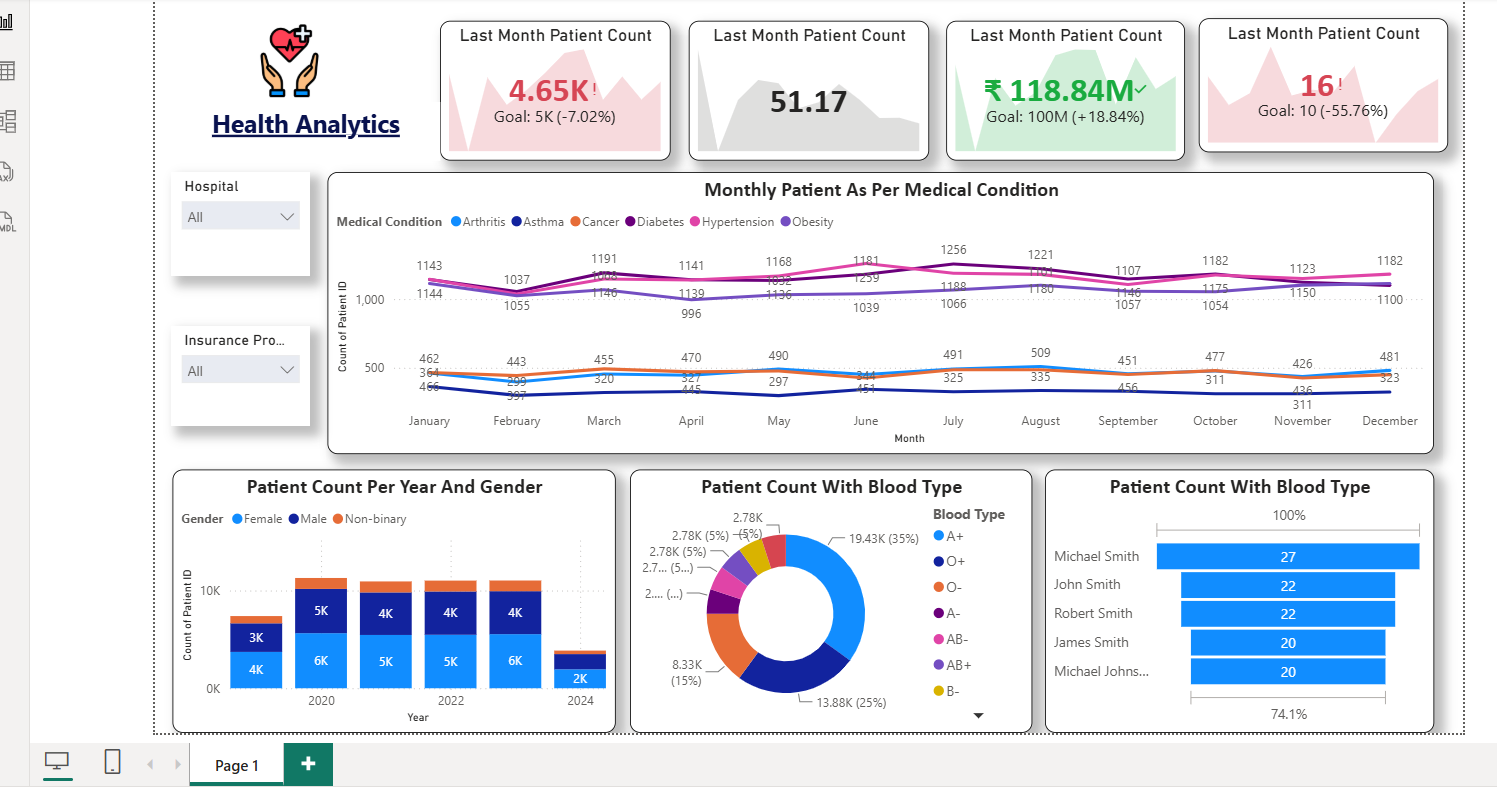

This screenshot's page, from the dashboard's own definition file:
{"tool":"powerbi","page":{"name":"Page 1","canvas":[1280,720],"ordinal":0},"visuals":[{"type":"kpi","title":"Last Month Patient Count ","fields":{"Indicator":["Count(Data.Patient ID)"],"TrendLine":["Data.Date of Admission.Variation.Date Hierarchy.Month"],"Goal":["Data.Monthl PC Target"]},"box":[279.4,22.8,225.2,136.8],"z":0},{"type":"kpi","title":"Last Month Patient Count ","fields":{"Indicator":["Avg(Data.Age)"],"TrendLine":["Data.Date of Admission.Variation.Date Hierarchy.Month"]},"box":[521.7,22.8,235.2,136.8],"z":1000},{"type":"kpi","title":"Last Month Patient Count ","fields":{"TrendLine":["Data.Date of Admission.Variation.Date Hierarchy.Month"],"Goal":["Data.Billing Target"],"Indicator":["Sum(Data.Billing Amount)"]},"box":[774,22.8,233.8,136.8],"z":2000},{"type":"kpi","title":"Last Month Patient Count ","fields":{"TrendLine":["Data.Date of Admission.Variation.Date Hierarchy.Month"],"Indicator":["Avg(Data.Stay Duration)"],"Goal":["Avg(Data.Duratin Target)"]},"box":[1020.6,21.4,243.7,131.1],"z":3000},{"type":"lineChart","title":"Monthly Patient As Per Medical Condition","fields":{"Category":["Data.Date of Admission.Variation.Date Hierarchy.Month"],"Y":["CountNonNull(Data.Patient ID)"],"Series":["Data.Medical Condition"]},"box":[17.1,171,1234.4,276.5],"z":4000},{"type":"columnChart","title":"Patient Count Per Year And Gender","fields":{"Y":["Count(Data.Patient ID)"],"Category":["Data.Date of Admission.Variation.Date Hierarchy.Year"],"Series":["Data.Gender"]},"box":[17.1,461.8,433.3,258],"z":5000},{"type":"donutChart","title":"Patient Count With Blood Type","fields":{"Y":["Count(Data.Patient ID)"],"Category":["Data.Blood Type"]},"box":[464.7,461.8,393.4,258],"z":6000},{"type":"funnel","title":"Patient Count With Blood Type","fields":{"Y":["Count(Data.Patient ID)"],"Category":["Data.Doctor"]},"box":[870.9,461.8,380.6,258],"z":7000},{"type":"slicer","fields":{"Values":["Data.Hospital"]},"box":[17.1,22.8,249.4,68.4],"z":7001},{"type":"slicer","fields":{"Values":["Data.Insurance Provider"]},"box":[17.1,91.2,249.4,68.4],"z":7002}]}

Visuals, with their boxes in screenshot pixels (x1, y1, x2, y2):
"Last Month Patient Count " kpi: pyautogui.locateOnScreen(423, 12, 658, 154)
"Last Month Patient Count " kpi: pyautogui.locateOnScreen(675, 12, 920, 154)
"Last Month Patient Count " kpi: pyautogui.locateOnScreen(938, 12, 1181, 154)
"Last Month Patient Count " kpi: pyautogui.locateOnScreen(1194, 11, 1448, 147)
"Monthly Patient As Per Medical Condition" lineChart: pyautogui.locateOnScreen(150, 166, 1435, 454)
"Patient Count Per Year And Gender" columnChart: pyautogui.locateOnScreen(150, 469, 601, 737)
"Patient Count With Blood Type" donutChart: pyautogui.locateOnScreen(616, 469, 1025, 737)
"Patient Count With Blood Type" funnel: pyautogui.locateOnScreen(1039, 469, 1435, 737)
slicer - Data.Hospital: pyautogui.locateOnScreen(150, 12, 410, 83)
slicer - Data.Insurance Provider: pyautogui.locateOnScreen(150, 83, 410, 154)
